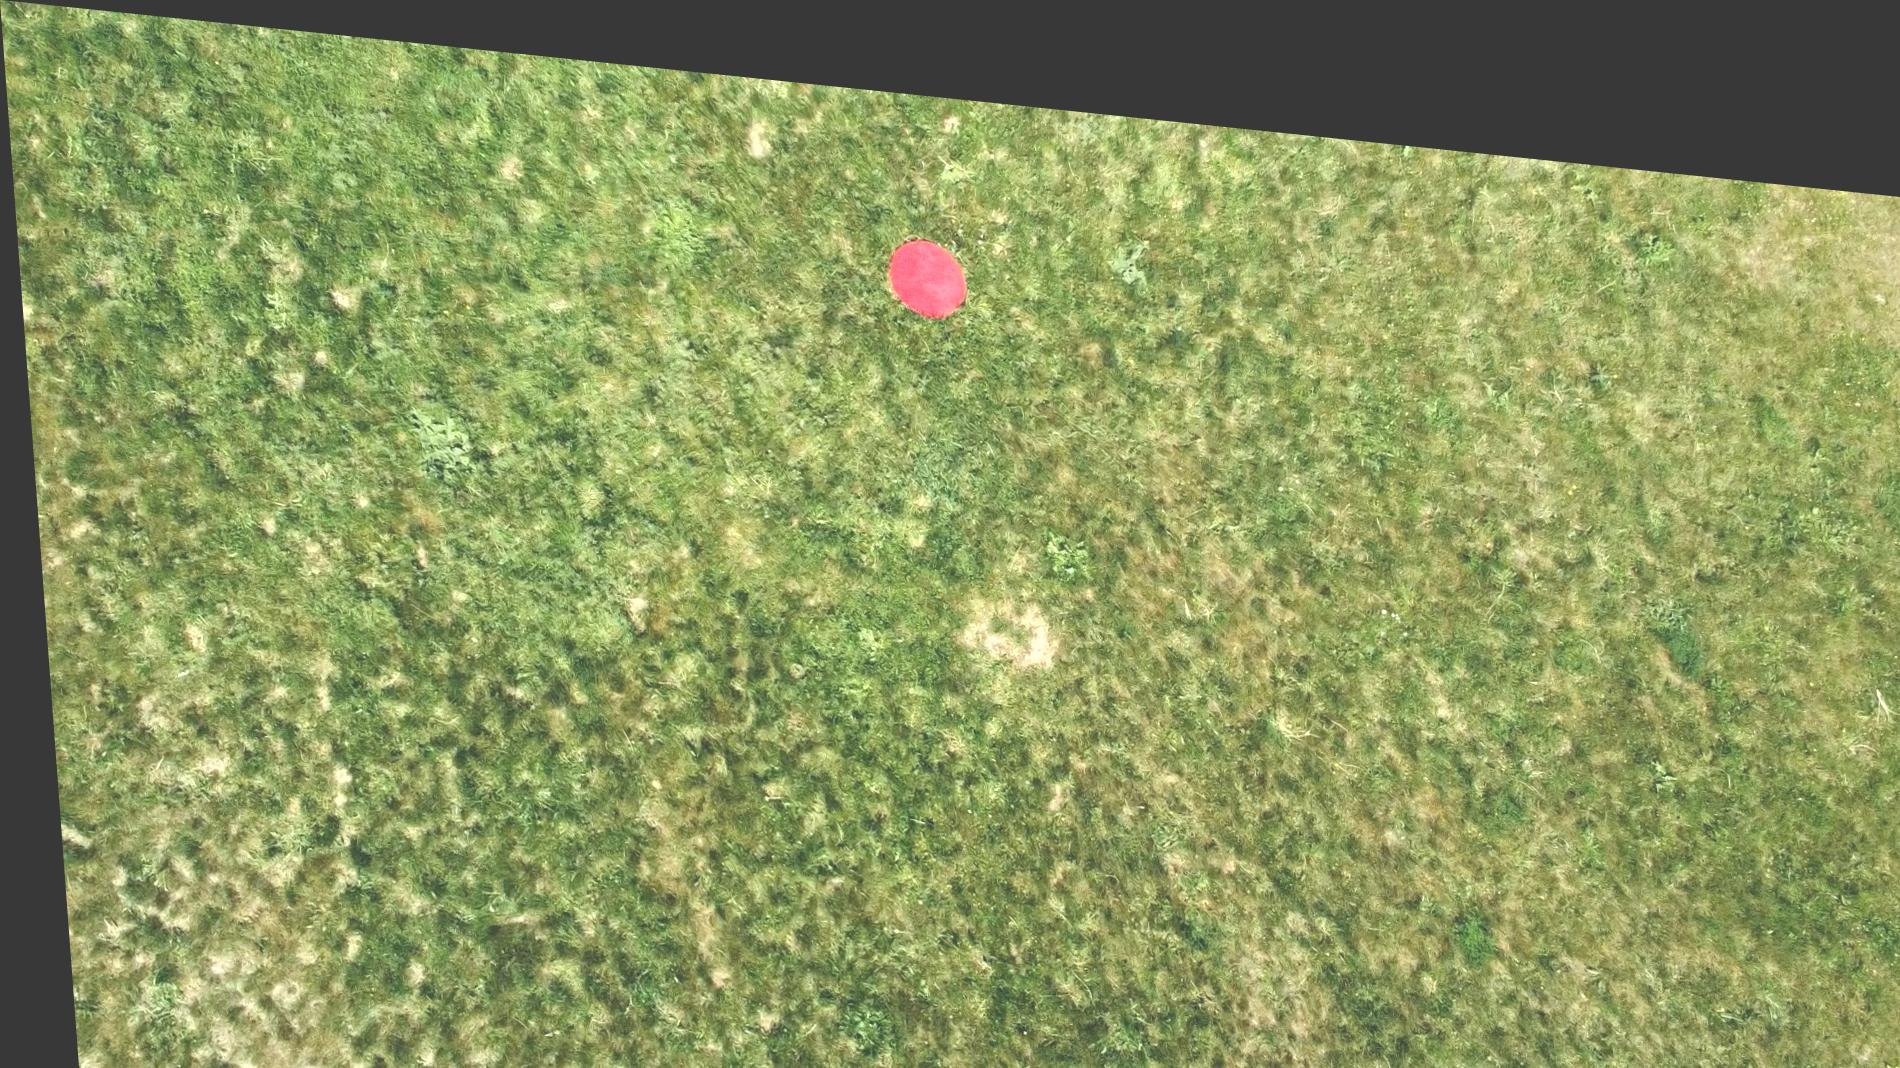Red: (880, 214, 968, 304)
